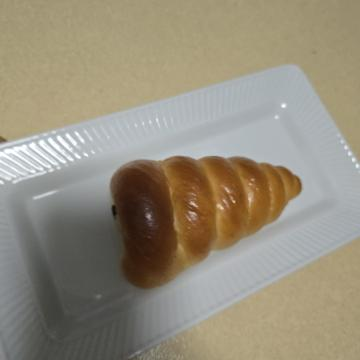cream horn: (138, 43, 306, 266)
